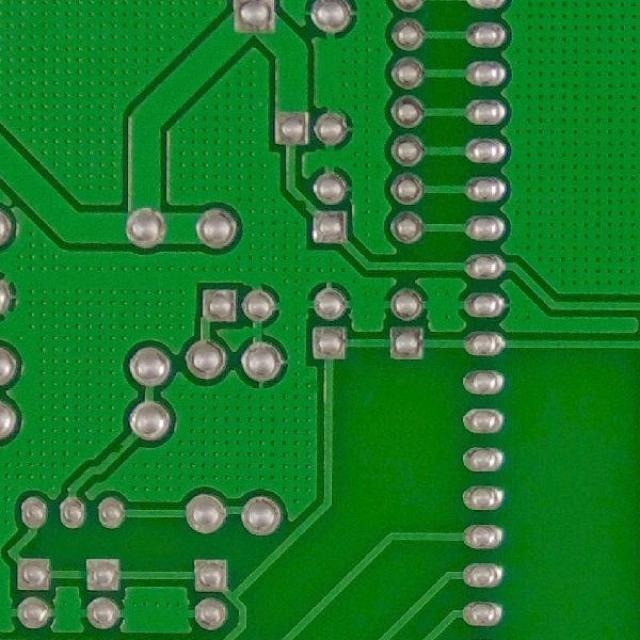mouse_bite: (108, 437, 129, 461), (291, 197, 313, 216)
